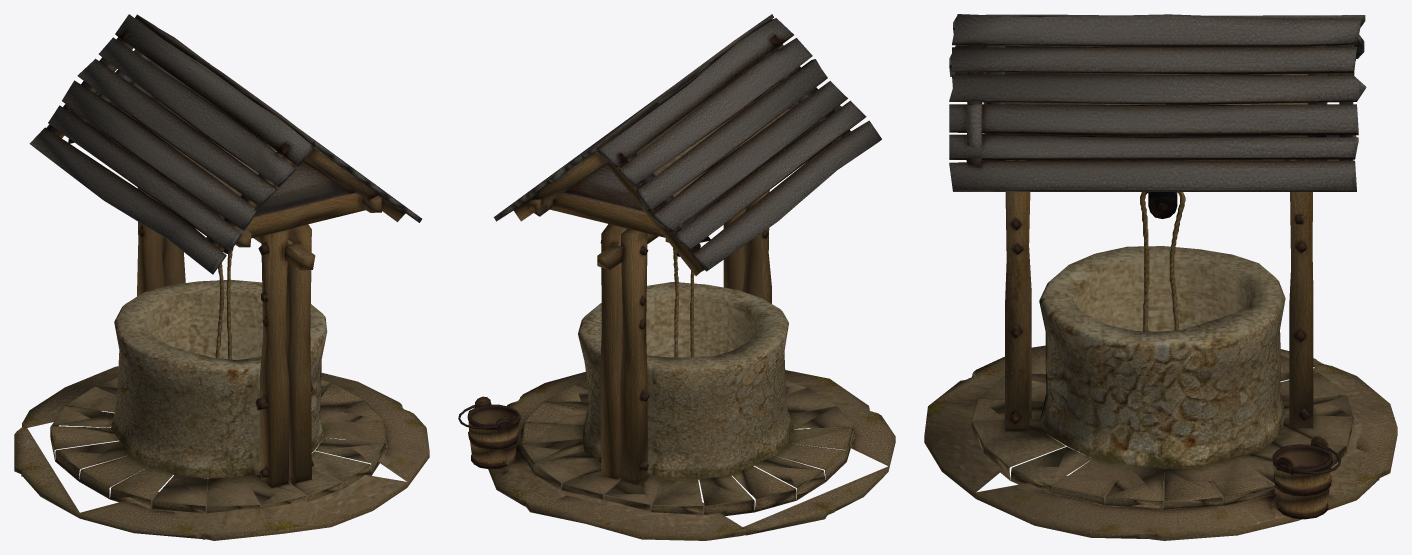
Rendered from stone+well+3d+model.fbx.
The picture shows the model from 3 angles, left to right: view 1: azimuth 30°, elevation 25°; view 2: azimuth 150°, elevation 25°; view 3: azimuth 270°, elevation 25°; orthographic projection. The views are drawn at different scales.
Parts seen in each view (by area): view 1: meshes[0]; view 2: meshes[0]; view 3: meshes[0].
Boxes of the visible parts, x1,y1,x2,y2 form: meshes[0]: [14, 14, 429, 540]; meshes[0]: [458, 14, 895, 540]; meshes[0]: [924, 14, 1397, 540].
Size of the model in its own units: 0.9941 by 0.998 by 0.998.
1 material, 1 textured.
